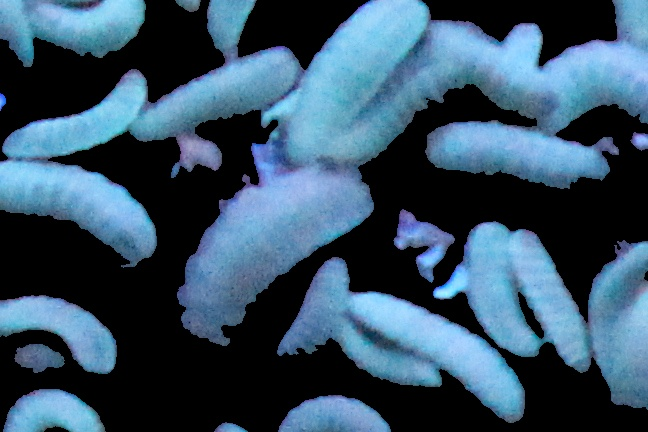larvae: (178, 168, 378, 352), (345, 281, 527, 425), (286, 1, 434, 154), (407, 112, 620, 208), (131, 33, 304, 146), (1, 158, 159, 268), (1, 58, 159, 159), (499, 223, 597, 368), (461, 210, 547, 366), (441, 16, 555, 115), (1, 285, 115, 372), (547, 33, 648, 120), (3, 1, 153, 58), (276, 256, 353, 362), (597, 236, 648, 394), (341, 320, 441, 391), (276, 381, 401, 432), (4, 382, 101, 432), (207, 1, 265, 60), (498, 15, 548, 77), (3, 1, 115, 2)
